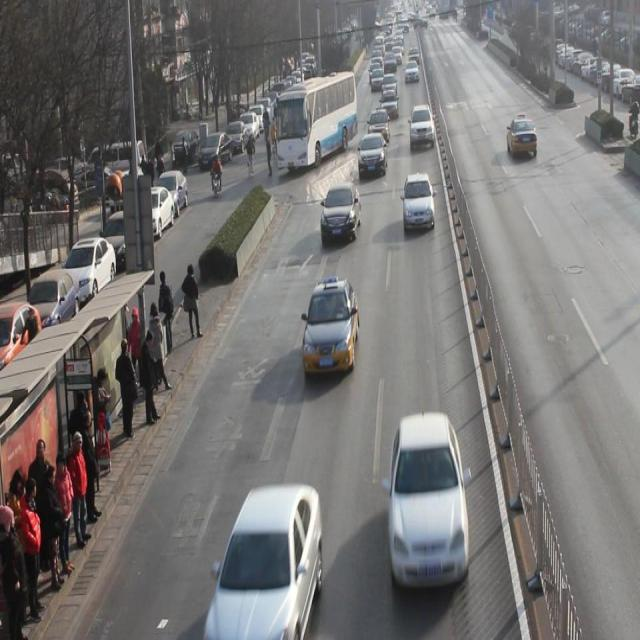car: (206, 480, 323, 640), (386, 412, 472, 592), (304, 279, 360, 378), (321, 183, 363, 247), (402, 175, 437, 233), (359, 133, 388, 181), (507, 119, 538, 162), (409, 106, 436, 154), (368, 110, 391, 148), (380, 90, 400, 121)
van: (276, 75, 358, 173)
